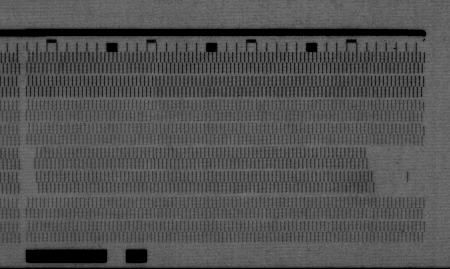Broken hole: (365, 146, 427, 193), (23, 145, 40, 195)
